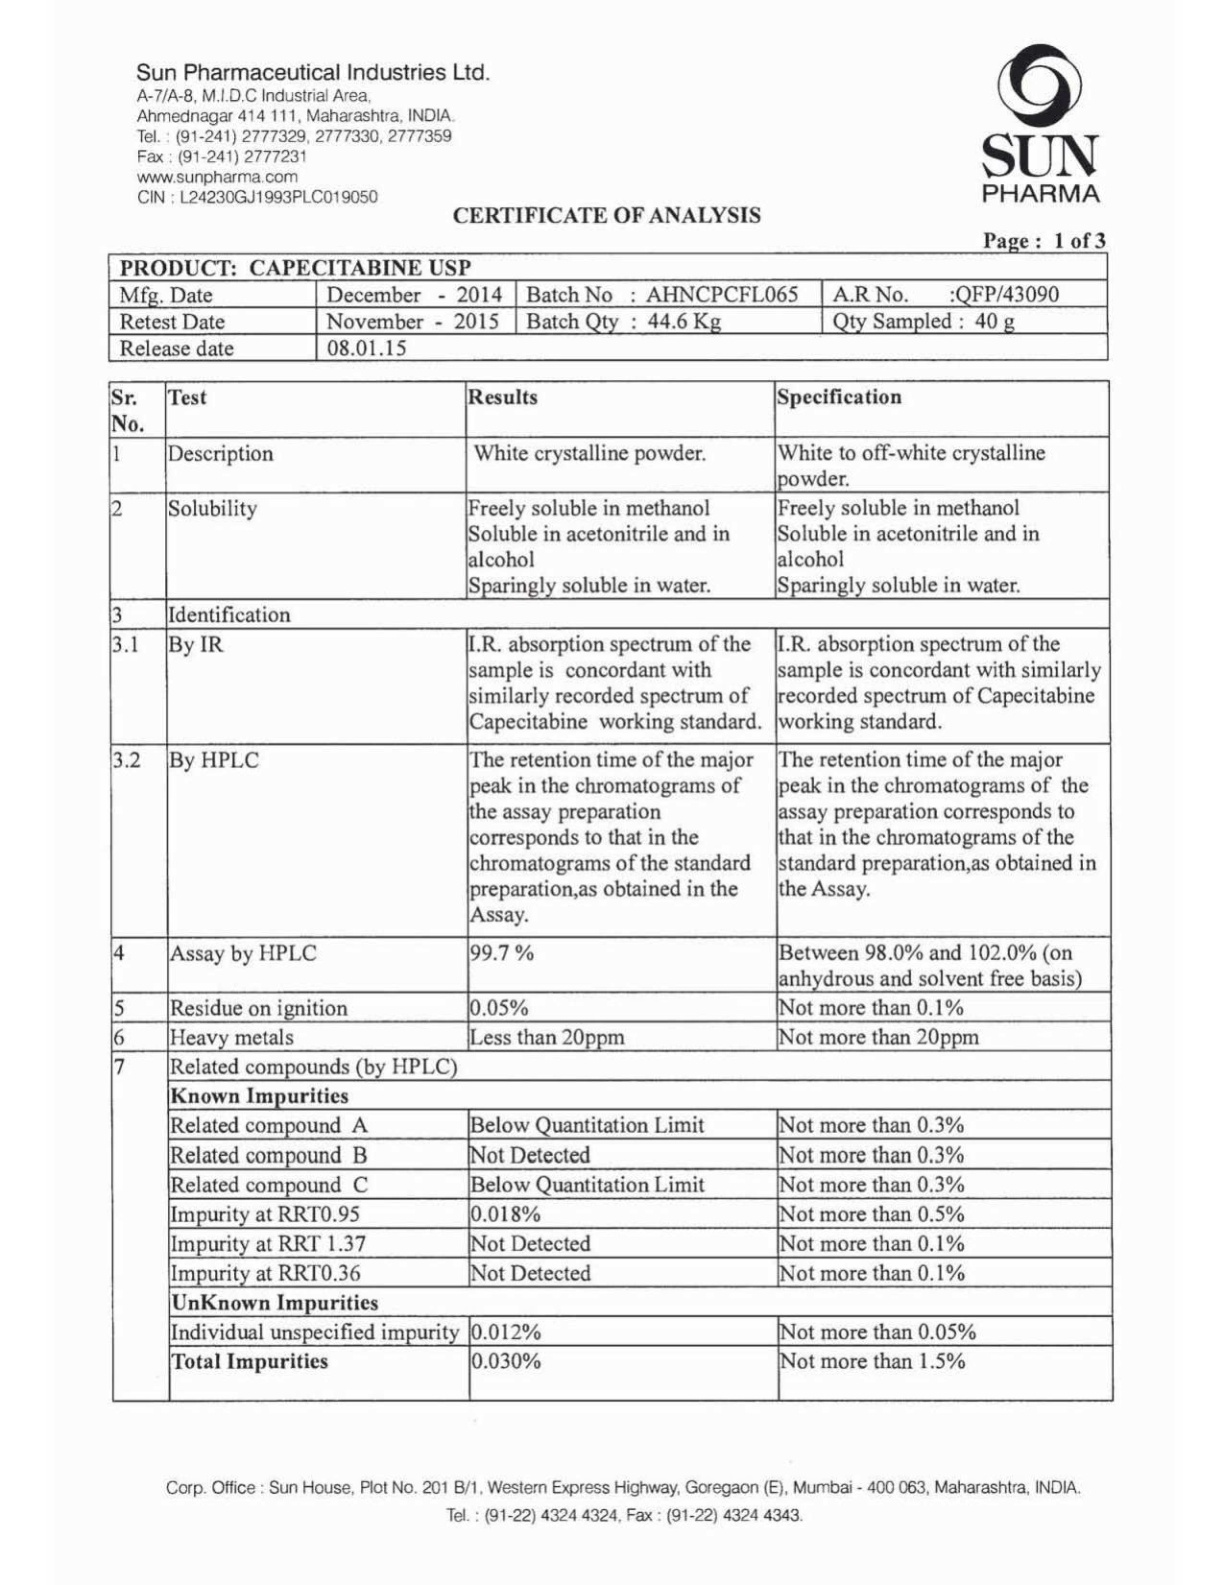merged_cells: (105, 381, 1113, 1402), (105, 251, 1110, 363)
